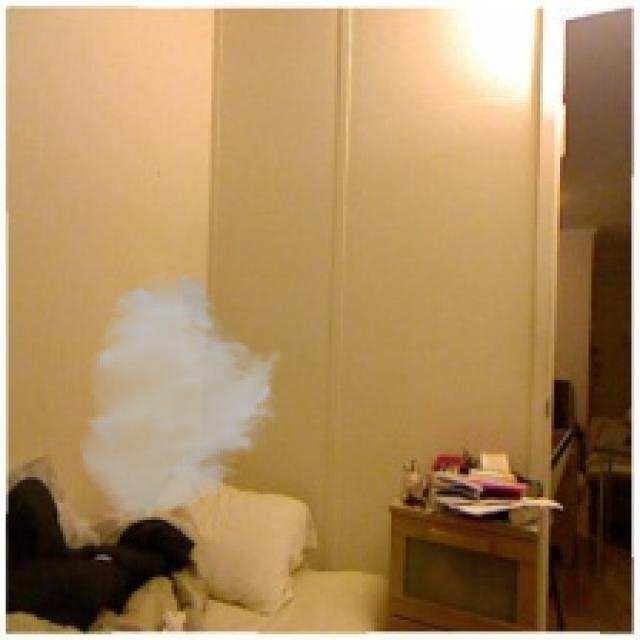smoke: (77, 268, 286, 523)
